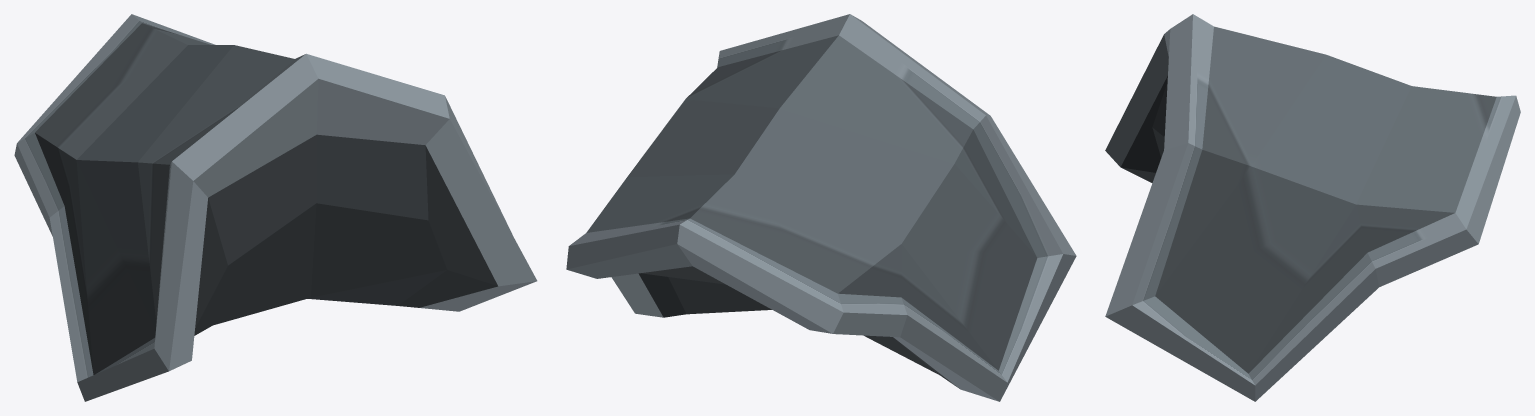
File: SM_Chr_Attach_Armour_Light_Neck_Small_01.fbx
3 views of the same model, side by side, from view 1: azimuth 30°, elevation 25°; view 2: azimuth 150°, elevation 25°; view 3: azimuth 270°, elevation 25° (orthographic). The views are drawn at different scales.
Parts seen in each view (by area): view 1: SM_Chr_Attach_Armour_Light_Neck_Small_01; view 2: SM_Chr_Attach_Armour_Light_Neck_Small_01; view 3: SM_Chr_Attach_Armour_Light_Neck_Small_01.
Boxes of the visible parts, x1=… form: SM_Chr_Attach_Armour_Light_Neck_Small_01: x1=14, y1=14, x2=537, y2=401; SM_Chr_Attach_Armour_Light_Neck_Small_01: x1=566, y1=14, x2=1076, y2=401; SM_Chr_Attach_Armour_Light_Neck_Small_01: x1=1105, y1=14, x2=1520, y2=401.
Size of the model in its own units: 21.3 by 17.14 by 21.27.
